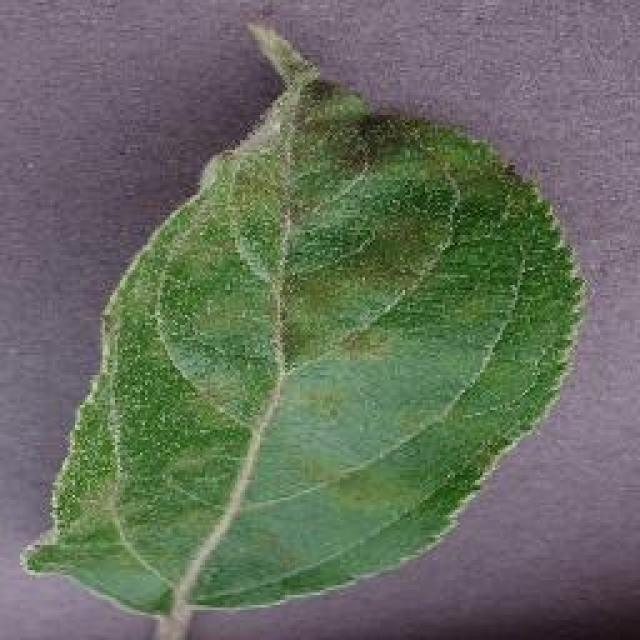apple scab disease: (20, 15, 590, 637)
